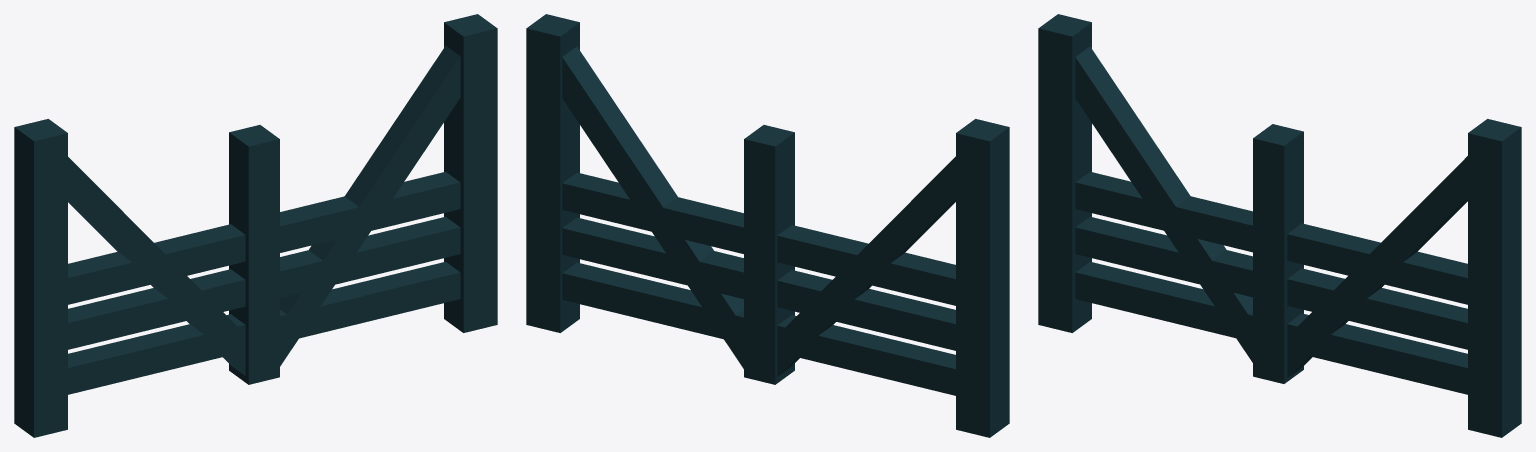
The model's file is V_plank_fences_3.FBX.
The picture shows the model from 3 angles, left to right: view 1: azimuth 30°, elevation 25°; view 2: azimuth 150°, elevation 25°; view 3: azimuth 330°, elevation 25°; orthographic projection.
Parts seen in each view (by area): view 1: V_plank_fences_3; view 2: V_plank_fences_3; view 3: V_plank_fences_3.
Part boxes in pixels (x1,y1,x2,y2): V_plank_fences_3: (14, 14, 497, 437); V_plank_fences_3: (526, 14, 1009, 437); V_plank_fences_3: (1038, 14, 1521, 437).
Size of the model in its own units: 1.47 by 0.9 by 0.108.
1 material, 1 textured.
